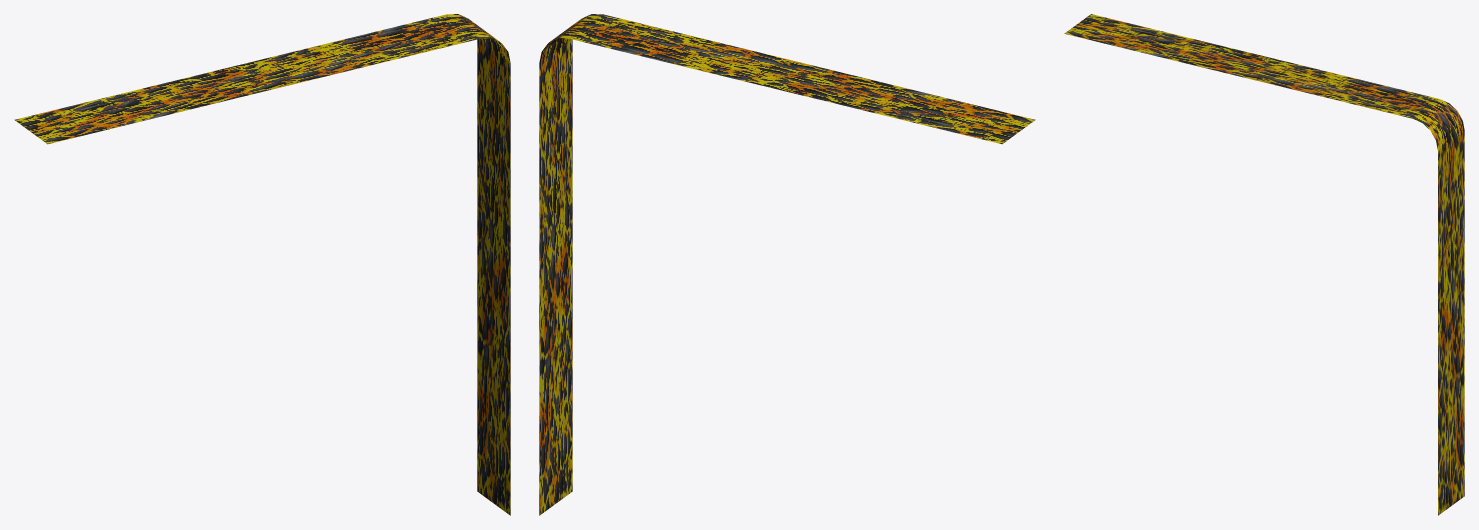
Rendered from waterfall.fbx.
The picture shows the model from 3 angles, left to right: view 1: azimuth 30°, elevation 25°; view 2: azimuth 150°, elevation 25°; view 3: azimuth 330°, elevation 25°; orthographic projection. The views are drawn at different scales.
Visible parts, largest first — view 1: Cube.002; view 2: Cube.002; view 3: Cube.002.
Boxes of the visible parts, x1,y1,x2,y2 form: Cube.002: [14, 14, 510, 515]; Cube.002: [539, 14, 1035, 515]; Cube.002: [1064, 14, 1464, 515].
Size of the model in its own units: 800 by 800 by 100.
1 material, 1 textured.
